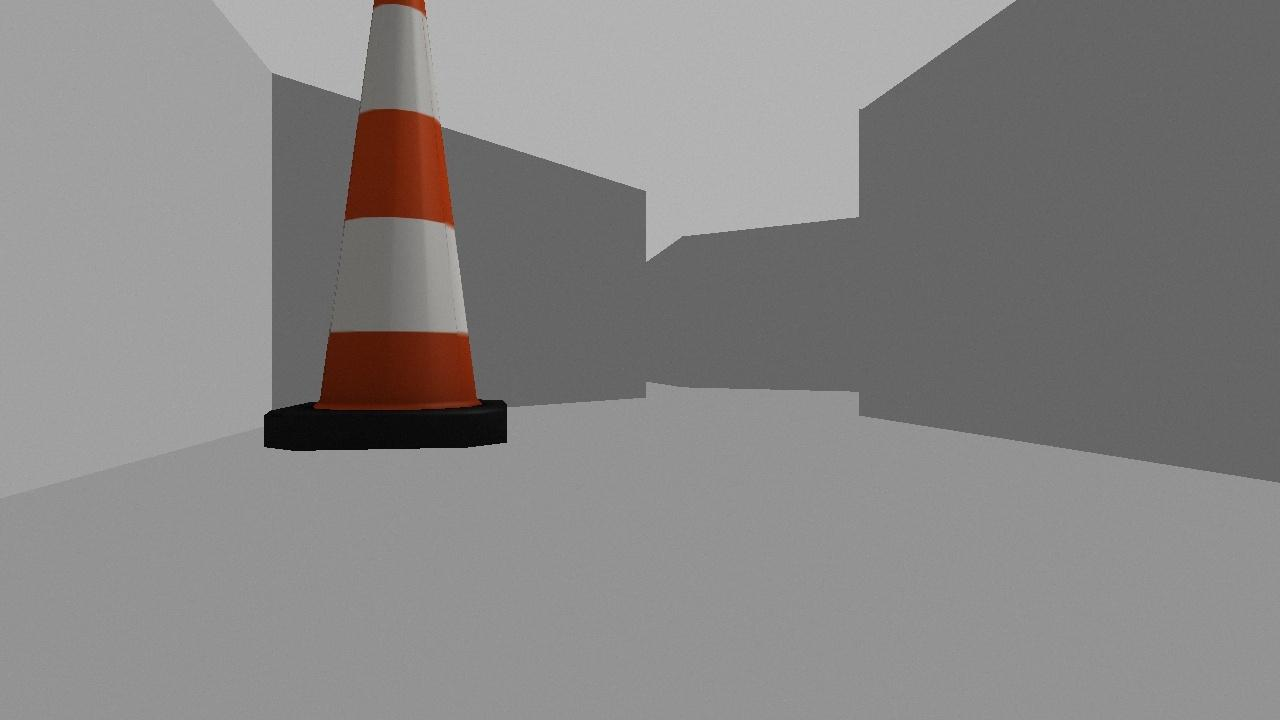cone_barrel: (262, 0, 505, 450)
